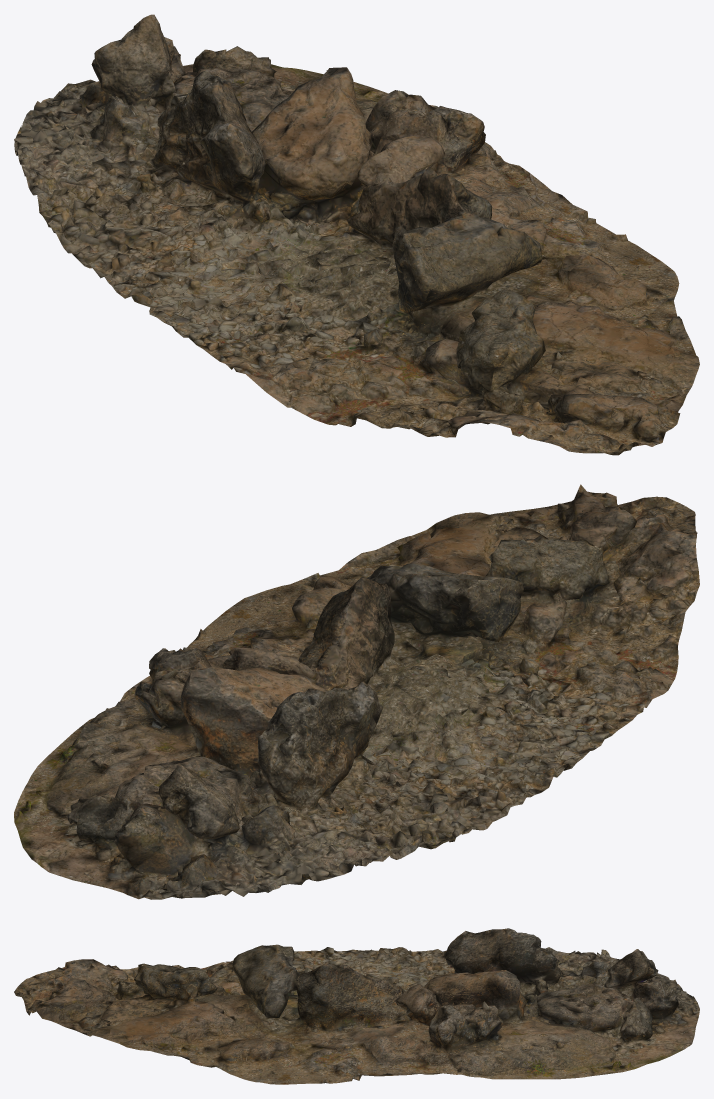
Rendered from far.gltf.
3 views of the same model, one above another, from view 1: azimuth 30°, elevation 25°; view 2: azimuth 150°, elevation 25°; view 3: azimuth 270°, elevation 25° (orthographic). The views are drawn at different scales.
Parts seen in each view (by area): view 1: coast_land_rocks_02; view 2: coast_land_rocks_02; view 3: coast_land_rocks_02.
Part boxes in pixels (x1,y1,x2,y2): coast_land_rocks_02: (14,14,699,455); coast_land_rocks_02: (14,484,699,899); coast_land_rocks_02: (14,928,699,1084).
Bounding box in the file's own units: 4.89 × 1.39 × 10.44.
Materials: 1 (1 with a texture image).
